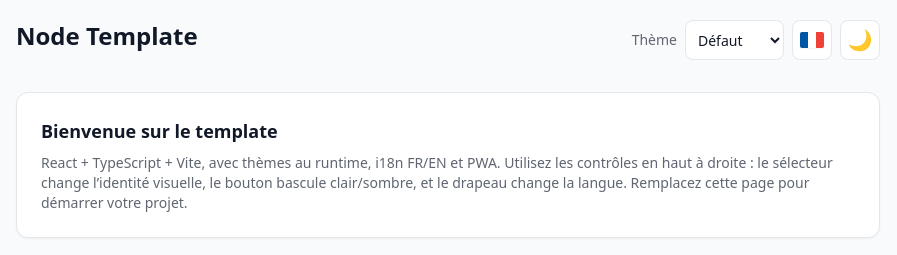
i18n - intégration dans App › bascule toute l'interface en anglais
The image size is (897, 255).
Click the button named "Passer en anglais" at (812,40), box [792,20,832,60]
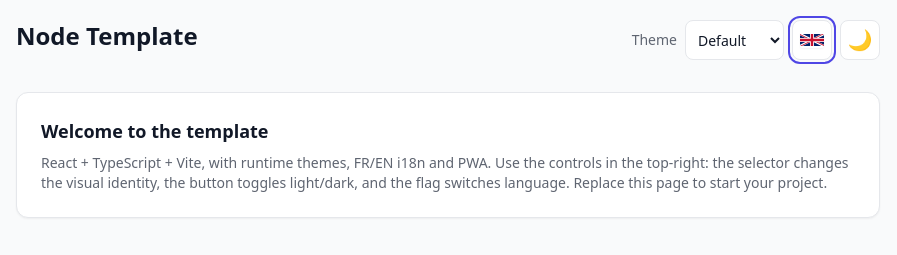
Result: the heading "Welcome to the template" is shown at [41,119,268,143]
Result: the text "runtime themes" is shown at [41,153,848,192]
